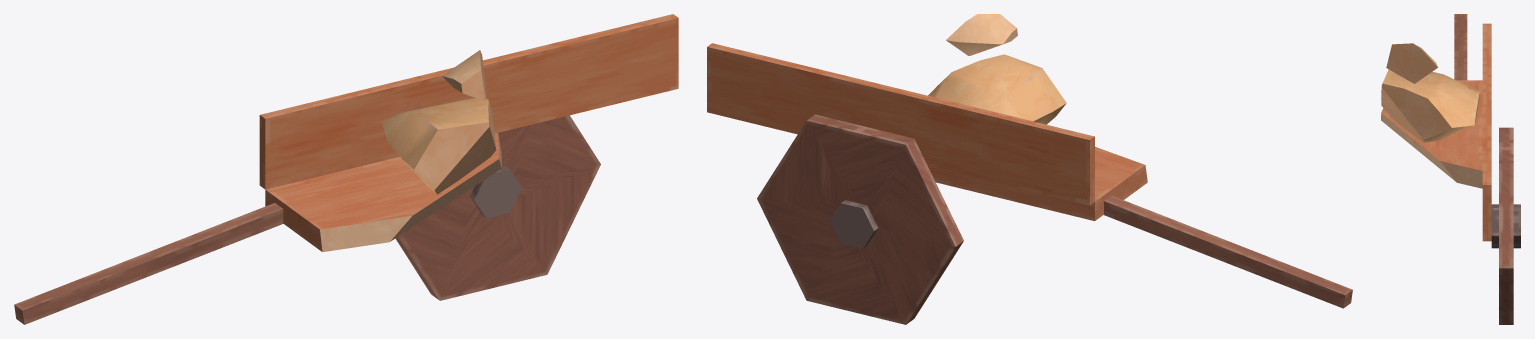
Rendered from cart_s07.fbx.
3 views of the same model, side by side, from view 1: azimuth 30°, elevation 25°; view 2: azimuth 150°, elevation 25°; view 3: azimuth 270°, elevation 25° (orthographic). The views are drawn at different scales.
Parts seen in each view (by area): view 1: cart_s07; view 2: cart_s07; view 3: cart_s07.
Part boxes in pixels (x1,y1,x2,y2): cart_s07: (14,14,678,324); cart_s07: (707,14,1352,324); cart_s07: (1381,14,1520,324).
Size of the model in its own units: 8.48 by 3.52 by 1.91.
